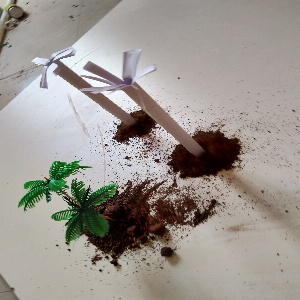plant: (15, 154, 125, 248)
weed: (75, 47, 202, 118), (19, 48, 100, 107)
